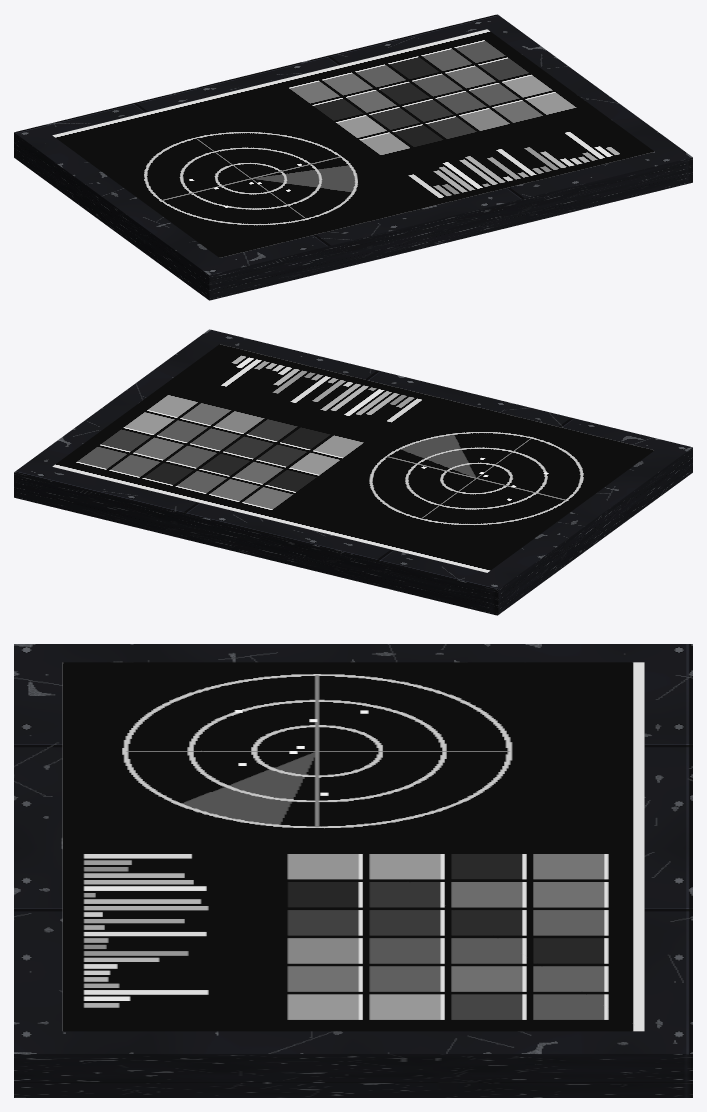
Rendered from Tech_DataPad.gltf.
3 views of the same model, one above another, from view 1: azimuth 30°, elevation 25°; view 2: azimuth 150°, elevation 25°; view 3: azimuth 270°, elevation 25° (orthographic). The views are drawn at different scales.
Parts seen in each view (by area): view 1: Tech_DataPad; view 2: Tech_DataPad; view 3: Tech_DataPad.
Part boxes in pixels (left/top/right/bottom): Tech_DataPad: left=14, top=14, right=692, bottom=300; Tech_DataPad: left=14, top=329, right=692, bottom=615; Tech_DataPad: left=14, top=644, right=692, bottom=1097.
Bounding box in the file's own units: 0.2 × 0.0105 × 0.14.
2 materials, 2 textured.
